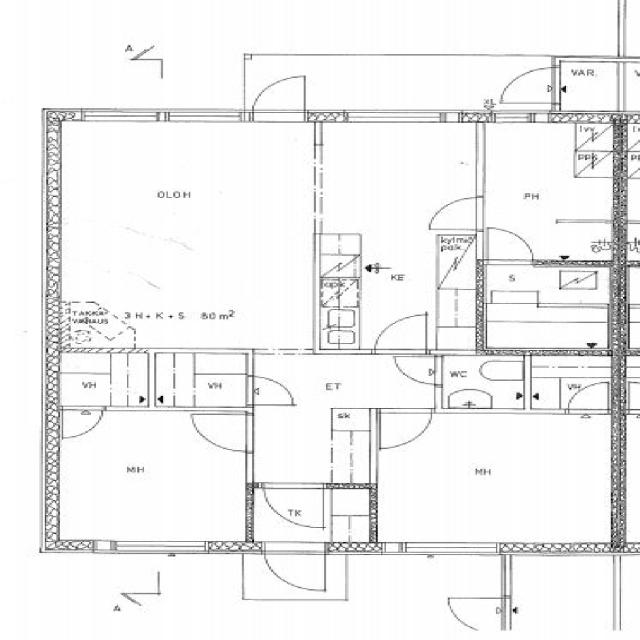door: (255, 542, 333, 596), (255, 481, 331, 532), (248, 73, 312, 122), (188, 410, 258, 454), (371, 310, 434, 355), (374, 407, 437, 451), (442, 595, 508, 636), (422, 193, 487, 234), (499, 64, 557, 106), (482, 224, 540, 266), (244, 373, 301, 408), (389, 353, 444, 388), (562, 379, 613, 416), (58, 406, 106, 440)
window: (450, 122, 492, 203), (95, 536, 215, 558), (395, 538, 506, 561), (340, 106, 453, 127), (76, 104, 170, 127), (166, 104, 248, 126), (489, 109, 553, 127)
zone: (376, 406, 620, 550), (50, 406, 252, 552), (478, 120, 622, 263), (440, 0, 633, 57), (503, 554, 624, 639), (145, 351, 253, 411), (54, 351, 151, 410), (437, 354, 530, 412), (556, 58, 630, 117)
